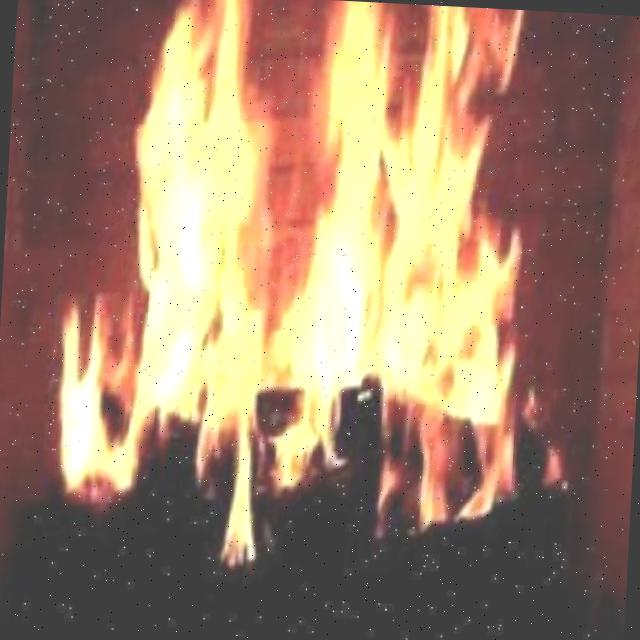fire: (63, 0, 524, 529)
